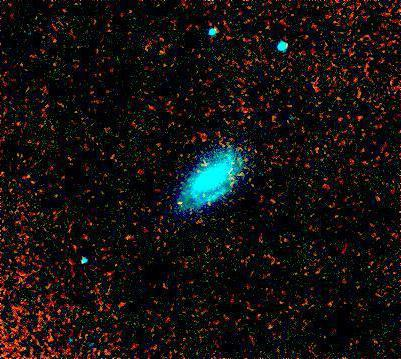star: (113, 222, 143, 252)
